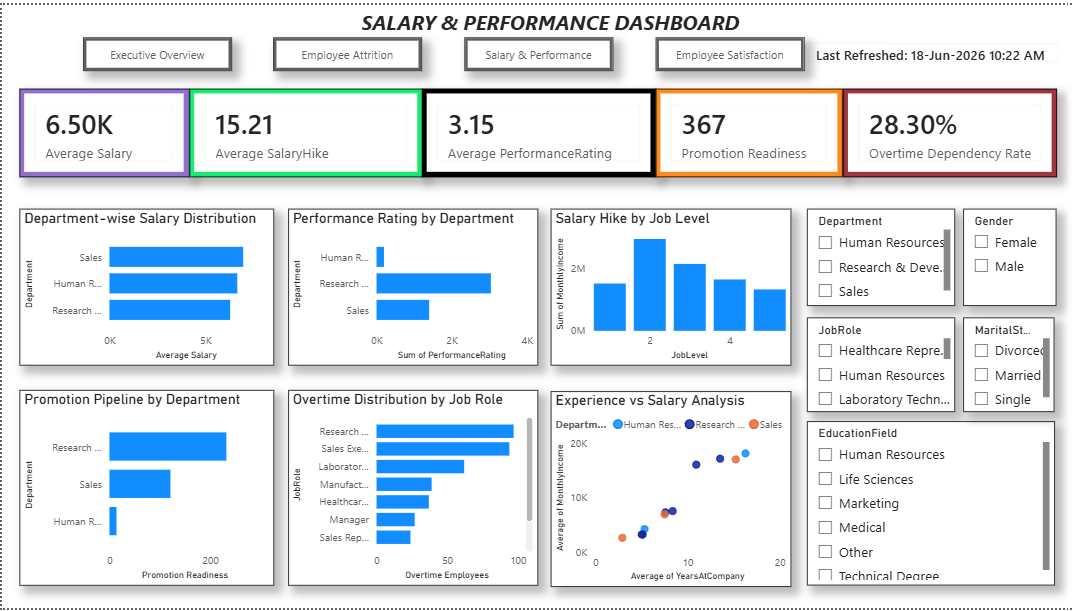

This screenshot's page, from the dashboard's own definition file:
{"tool":"powerbi","page":{"name":"SALARY & PERFORMANCE","canvas":[1280,720],"ordinal":2},"visuals":[{"type":"cardVisual","fields":{"Data":["Measures Table.Average Salary"]},"box":[20.3,100,202.9,105.8],"z":0},{"type":"cardVisual","fields":{"Data":["Avg(Job_Performance.PercentSalaryHike)"]},"box":[223.2,100,278.3,105.8],"z":1000},{"type":"cardVisual","fields":{"Data":["Avg(Job_Performance.PerformanceRating)"]},"box":[501.4,100,279.7,105.8],"z":2000},{"type":"cardVisual","fields":{"Data":["Measures Table.Promotion Readiness"]},"box":[781.2,100,223.2,105.8],"z":3000},{"type":"cardVisual","fields":{"Data":["Measures Table.Overtime Dependency Rate"]},"box":[1004.3,100,255.1,105.8],"z":4000},{"type":"clusteredBarChart","title":"Department-wise Salary Distribution","fields":{"Category":["Employee_Details.Department"],"Y":["Measures Table.Average Salary"]},"box":[20.3,243.5,304.3,187],"z":5000},{"type":"clusteredBarChart","title":"Performance Rating by Department","fields":{"Category":["Employee_Details.Department"],"Y":["Sum(Job_Performance.PerformanceRating)"]},"box":[342,243.5,298.6,187],"z":6000},{"type":"clusteredColumnChart","title":"Salary Hike by Job Level","fields":{"Category":["Job_Performance.JobLevel"],"Y":["Sum(Job_Performance.MonthlyIncome)"]},"box":[655.1,243.5,287,187],"z":7000},{"type":"clusteredBarChart","title":"Promotion Pipeline by Department","fields":{"Category":["Employee_Details.Department"],"Y":["Measures Table.Promotion Readiness"]},"box":[20.3,459.4,304.3,233.3],"z":8000},{"type":"clusteredBarChart","title":"Overtime Distribution by Job Role","fields":{"Category":["Employee_Details.JobRole"],"Y":["Measures Table.Overtime Employees"]},"box":[342,459.4,298.6,233.3],"z":9000},{"type":"scatterChart","title":"Experience vs Salary Analysis","fields":{"X":["Avg(Job_Performance.YearsAtCompany)"],"Y":["Avg(Job_Performance.MonthlyIncome)"],"Series":["Employee_Details.Department"],"Category":["Employee_Details.JobRole"]},"box":[655.1,460.9,287,233.3],"z":10000},{"type":"slicer","fields":{"Values":["Employee_Details.Department"]},"box":[960.9,243.5,176.8,115.9],"z":11000},{"type":"slicer","fields":{"Values":["Employee_Details.JobRole"]},"box":[960.9,372.5,176.8,113],"z":12000},{"type":"slicer","fields":{"Values":["Employee_Details.Gender"]},"box":[1147.8,243.5,111.6,115.9],"z":13000},{"type":"slicer","fields":{"Values":["Employee_Details.EducationField"]},"box":[960.9,497.1,295.7,195.7],"z":14000},{"type":"slicer","fields":{"Values":["Employee_Details.MaritalStatus"]},"box":[1147.8,372.5,108.7,113],"z":15000},{"type":"textbox","box":[420.3,0,468.1,58],"z":16000},{"type":"cardVisual","fields":{"Data":["Measures Table.Last Refresh"]},"box":[942,29,337.7,58],"z":17000},{"type":"actionButton","box":[97,38.8,177.6,40.3],"z":17001},{"type":"actionButton","box":[323.9,38.8,177.6,40.3],"z":17002},{"type":"actionButton","box":[552.2,38.8,177.6,40.3],"z":17003},{"type":"actionButton","box":[780.6,38.8,177.6,40.3],"z":17004}]}

Visuals, with their boxes in screenshot pixels (x1, y1, x2, y2), scaled from the page's 1280x720 canvas onto the 1072x611 screenshot:
cardVisual - Measures Table.Average Salary: <region>17, 85, 187, 175</region>
cardVisual - Avg(Job_Performance.PercentSalaryHike): <region>187, 85, 420, 175</region>
cardVisual - Avg(Job_Performance.PerformanceRating): <region>420, 85, 654, 175</region>
cardVisual - Measures Table.Promotion Readiness: <region>654, 85, 841, 175</region>
cardVisual - Measures Table.Overtime Dependency Rate: <region>841, 85, 1055, 175</region>
"Department-wise Salary Distribution" clusteredBarChart: <region>17, 207, 272, 365</region>
"Performance Rating by Department" clusteredBarChart: <region>286, 207, 537, 365</region>
"Salary Hike by Job Level" clusteredColumnChart: <region>549, 207, 789, 365</region>
"Promotion Pipeline by Department" clusteredBarChart: <region>17, 390, 272, 588</region>
"Overtime Distribution by Job Role" clusteredBarChart: <region>286, 390, 537, 588</region>
"Experience vs Salary Analysis" scatterChart: <region>549, 391, 789, 589</region>
slicer - Employee_Details.Department: <region>805, 207, 953, 305</region>
slicer - Employee_Details.JobRole: <region>805, 316, 953, 412</region>
slicer - Employee_Details.Gender: <region>961, 207, 1055, 305</region>
slicer - Employee_Details.EducationField: <region>805, 422, 1052, 588</region>
slicer - Employee_Details.MaritalStatus: <region>961, 316, 1052, 412</region>
textbox: <region>352, 0, 744, 49</region>
cardVisual - Measures Table.Last Refresh: <region>789, 25, 1071, 74</region>
actionButton: <region>81, 33, 230, 67</region>
actionButton: <region>271, 33, 420, 67</region>
actionButton: <region>462, 33, 611, 67</region>
actionButton: <region>654, 33, 802, 67</region>
